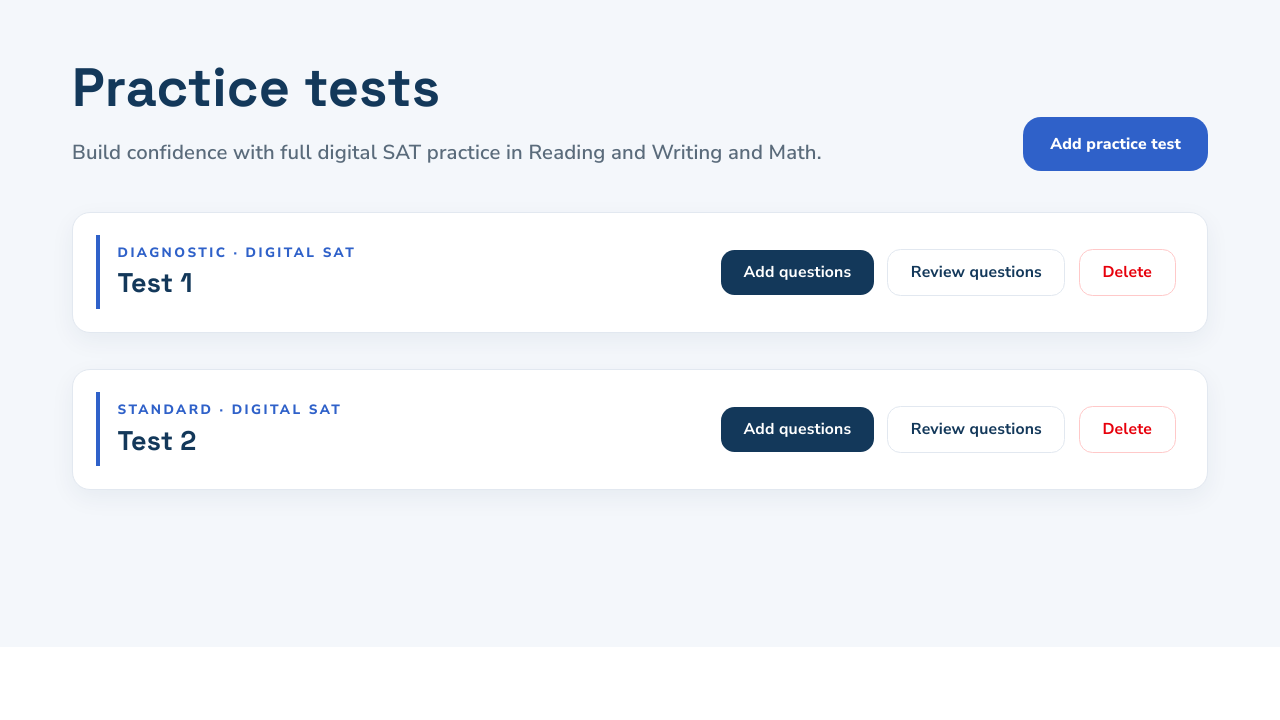
Test: PracticeTestsList › closes confirmation on cancel
The width and height of the screenshot is (1280, 720).
Check: the heading "Test 1" is shown, box top-left (118, 266), bottom-right (193, 300)
Click the button "Delete" in the row of "diagnostic": (1127, 272) top-left (1079, 249), bottom-right (1176, 296)
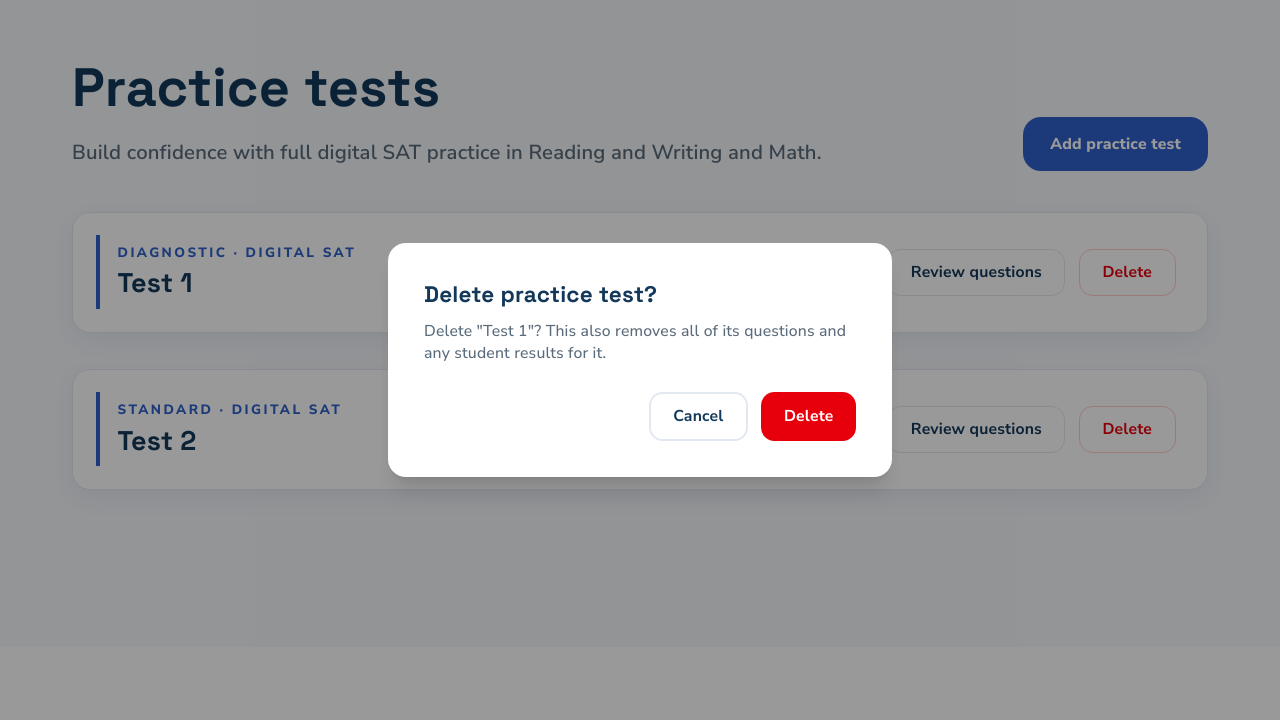
Click the button "Cancel": (698, 416) top-left (649, 392), bottom-right (748, 441)
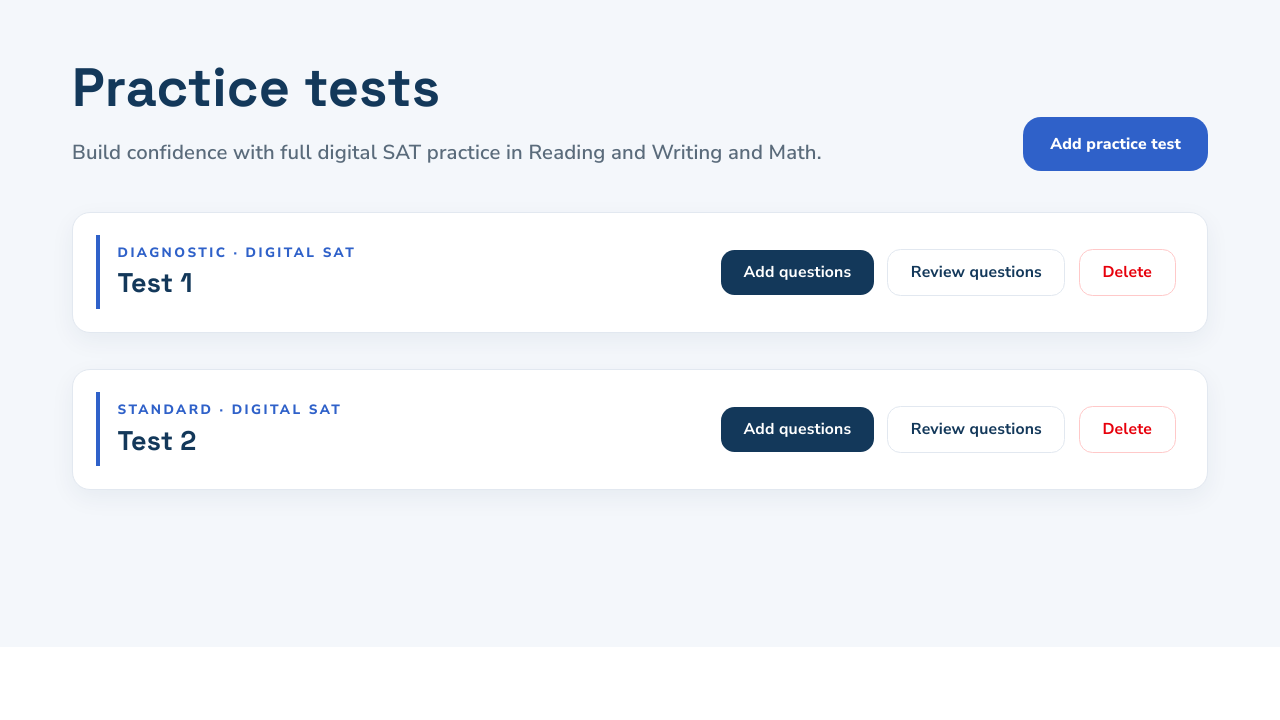
Check: the heading "Delete practice test?" is gone
